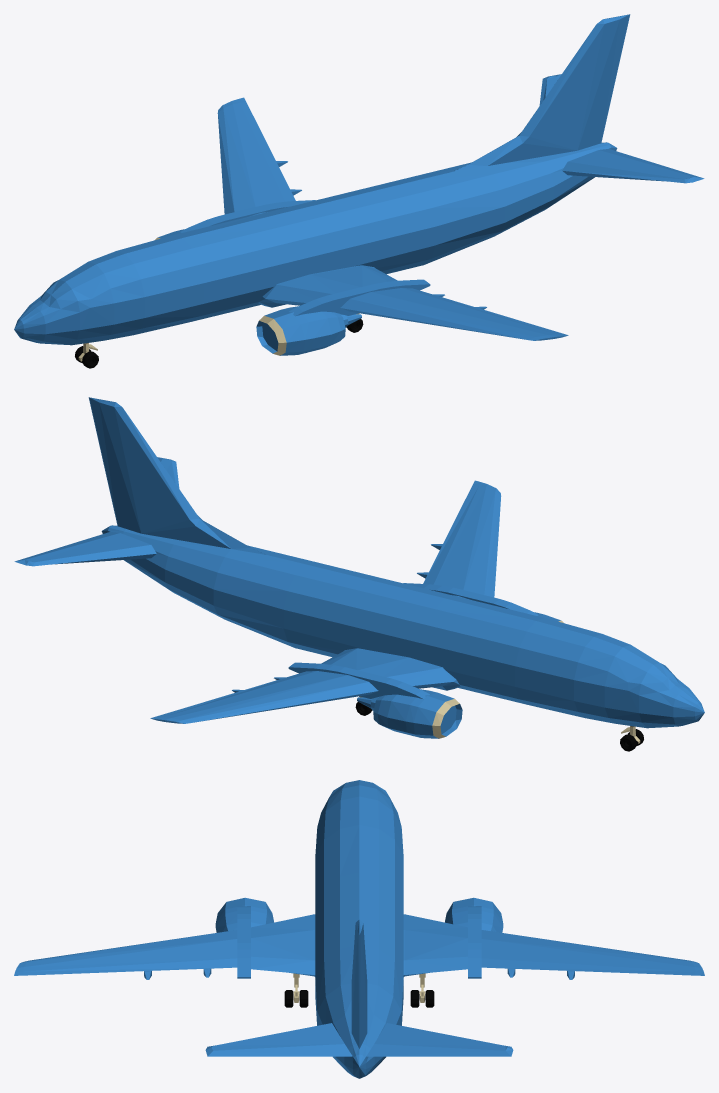
The picture shows the model from 3 angles, top to bottom: view 1: azimuth 30°, elevation 25°; view 2: azimuth 150°, elevation 25°; view 3: azimuth 270°, elevation 25°; orthographic projection. The views are drawn at different scales.
Parts seen in each view (by area): view 1: Layer_02za; view 2: Layer_02za; view 3: Layer_02za.
Part boxes in pixels (x1=…): Layer_02za: x1=14, y1=14, x2=704, y2=368; Layer_02za: x1=14, y1=397, x2=704, y2=751; Layer_02za: x1=14, y1=780, x2=704, y2=1078.
Bounding box in the file's own units: 7.96 × 2.69 × 7.24.
